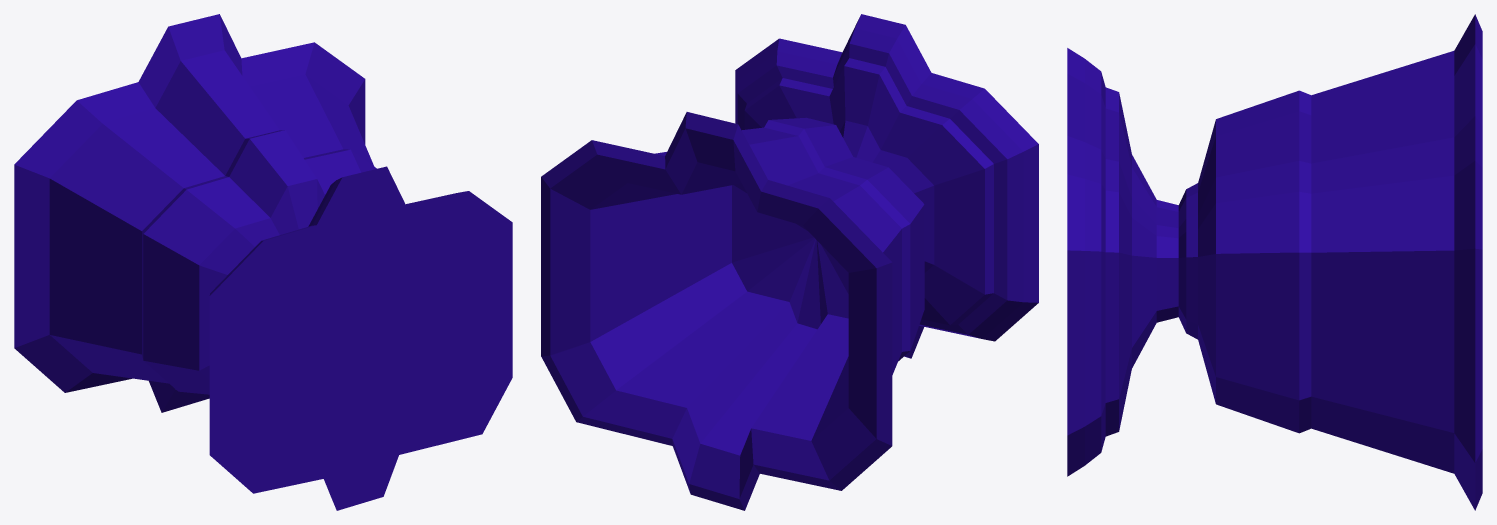
The picture shows the model from 3 angles, left to right: view 1: azimuth 30°, elevation 25°; view 2: azimuth 150°, elevation 25°; view 3: azimuth 270°, elevation 25°; orthographic projection. The views are drawn at different scales.
Parts seen in each view (by area): view 1: urn2; view 2: urn2; view 3: urn2.
Boxes of the visible parts, x1,y1,x2,y2 form: urn2: (14, 14, 512, 510); urn2: (541, 14, 1038, 510); urn2: (1067, 14, 1482, 510).
Bounding box in the file's own units: 2.33 × 2.44 × 2.
